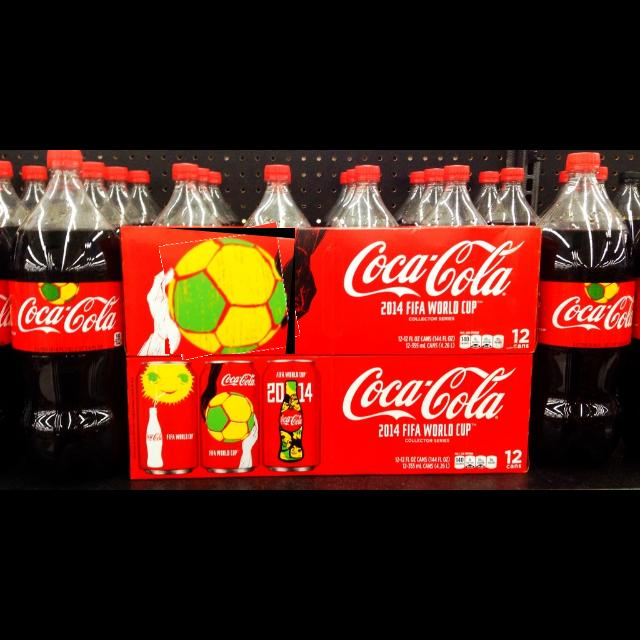Football: (165, 228, 295, 354)
